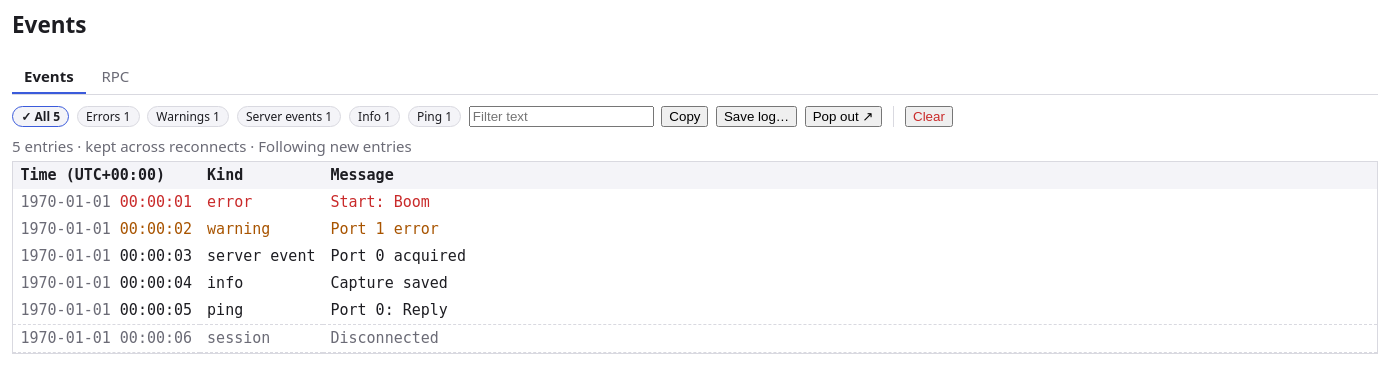
it: EventsPage › the RPC tab holds the console
The width and height of the screenshot is (1378, 371).
Click the tab "RPC" at (115, 77), box [89,60,141,94]
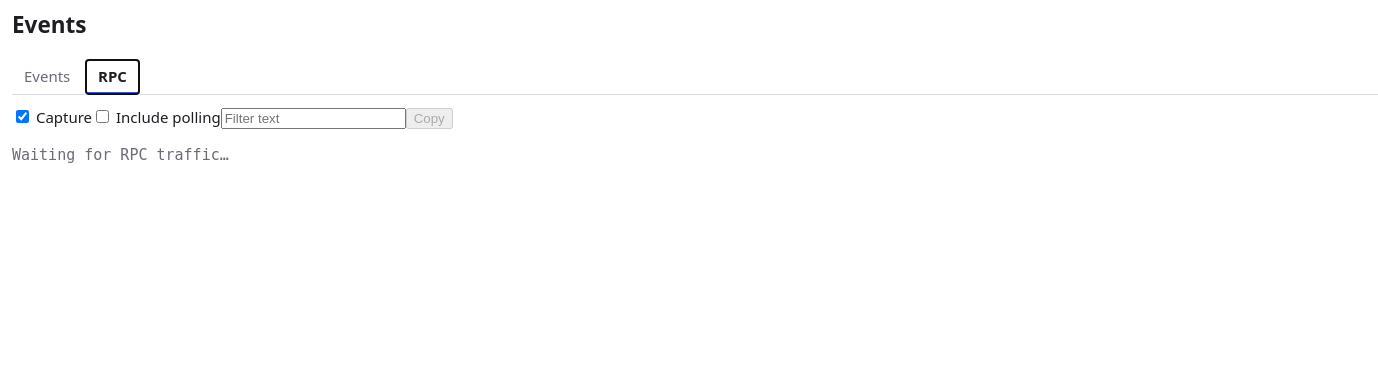
expect the checkbox labelled "Capture" is shown: met, box [16,110,29,123]
